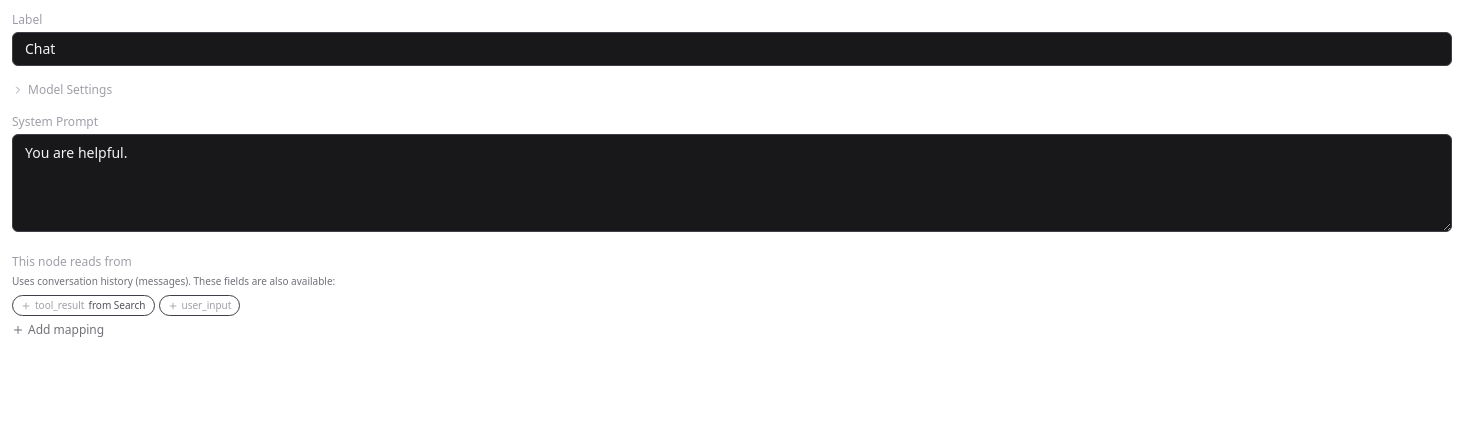
Test: LLMNodeConfig › suggestions disappear after clicking one
Expected: the text "tool_result" is shown, [35,298,84,312]
Expected: the text "user_input" is shown, [182,298,231,313]
Click the button "tool_result": (83, 306) [12,295,154,316]
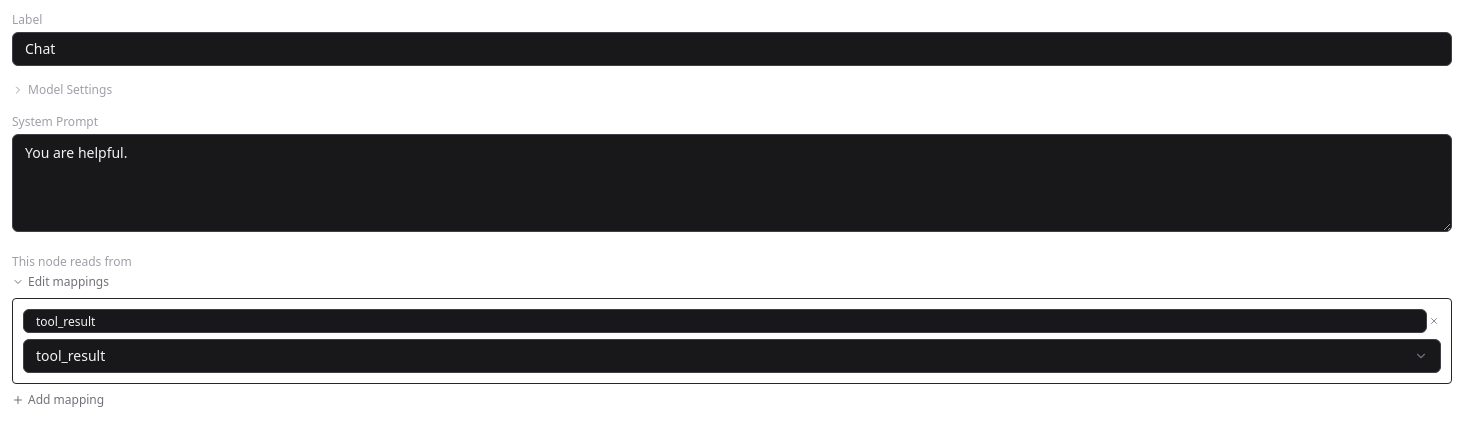
Expected: the text "These fields are also available" is gone
